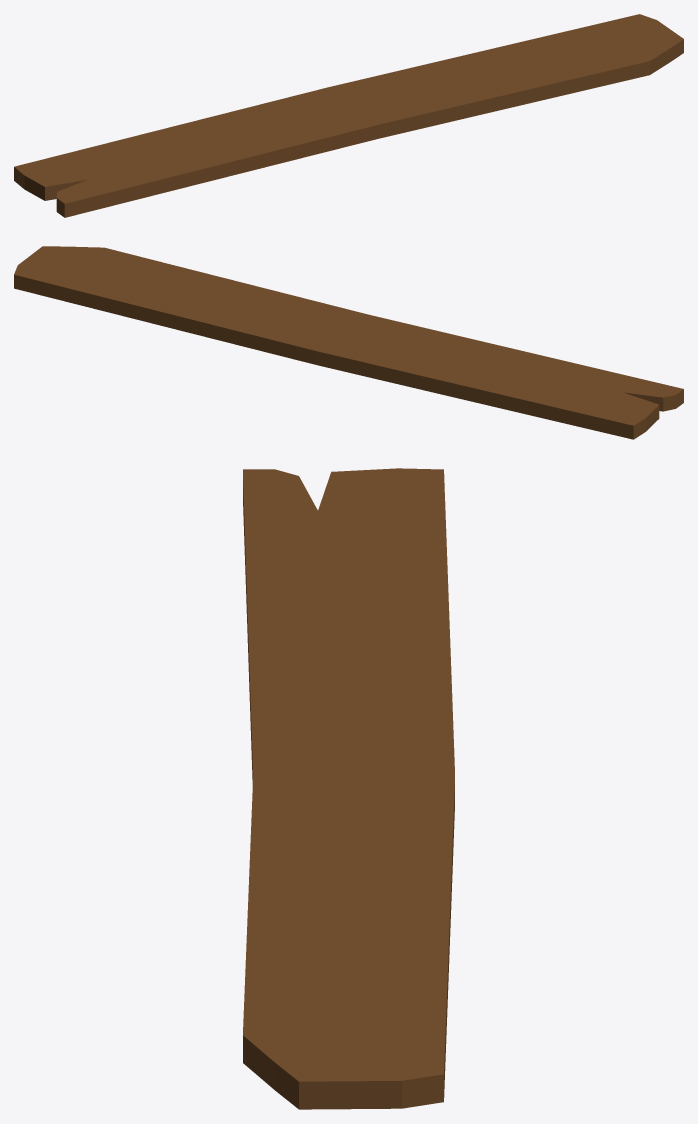
Rendered from Plank_03.fbx.
3 views of the same model, one above another, from view 1: azimuth 30°, elevation 25°; view 2: azimuth 150°, elevation 25°; view 3: azimuth 270°, elevation 25° (orthographic). The views are drawn at different scales.
Parts seen in each view (by area): view 1: Plank_03; view 2: Plank_03; view 3: Plank_03.
Boxes of the visible parts, box(x1,y1,x2,y2) form: Plank_03: box(14, 14, 683, 217); Plank_03: box(14, 246, 683, 439); Plank_03: box(243, 468, 454, 1109).
Bounding box in the file's own units: 178 × 3.77 × 26.
